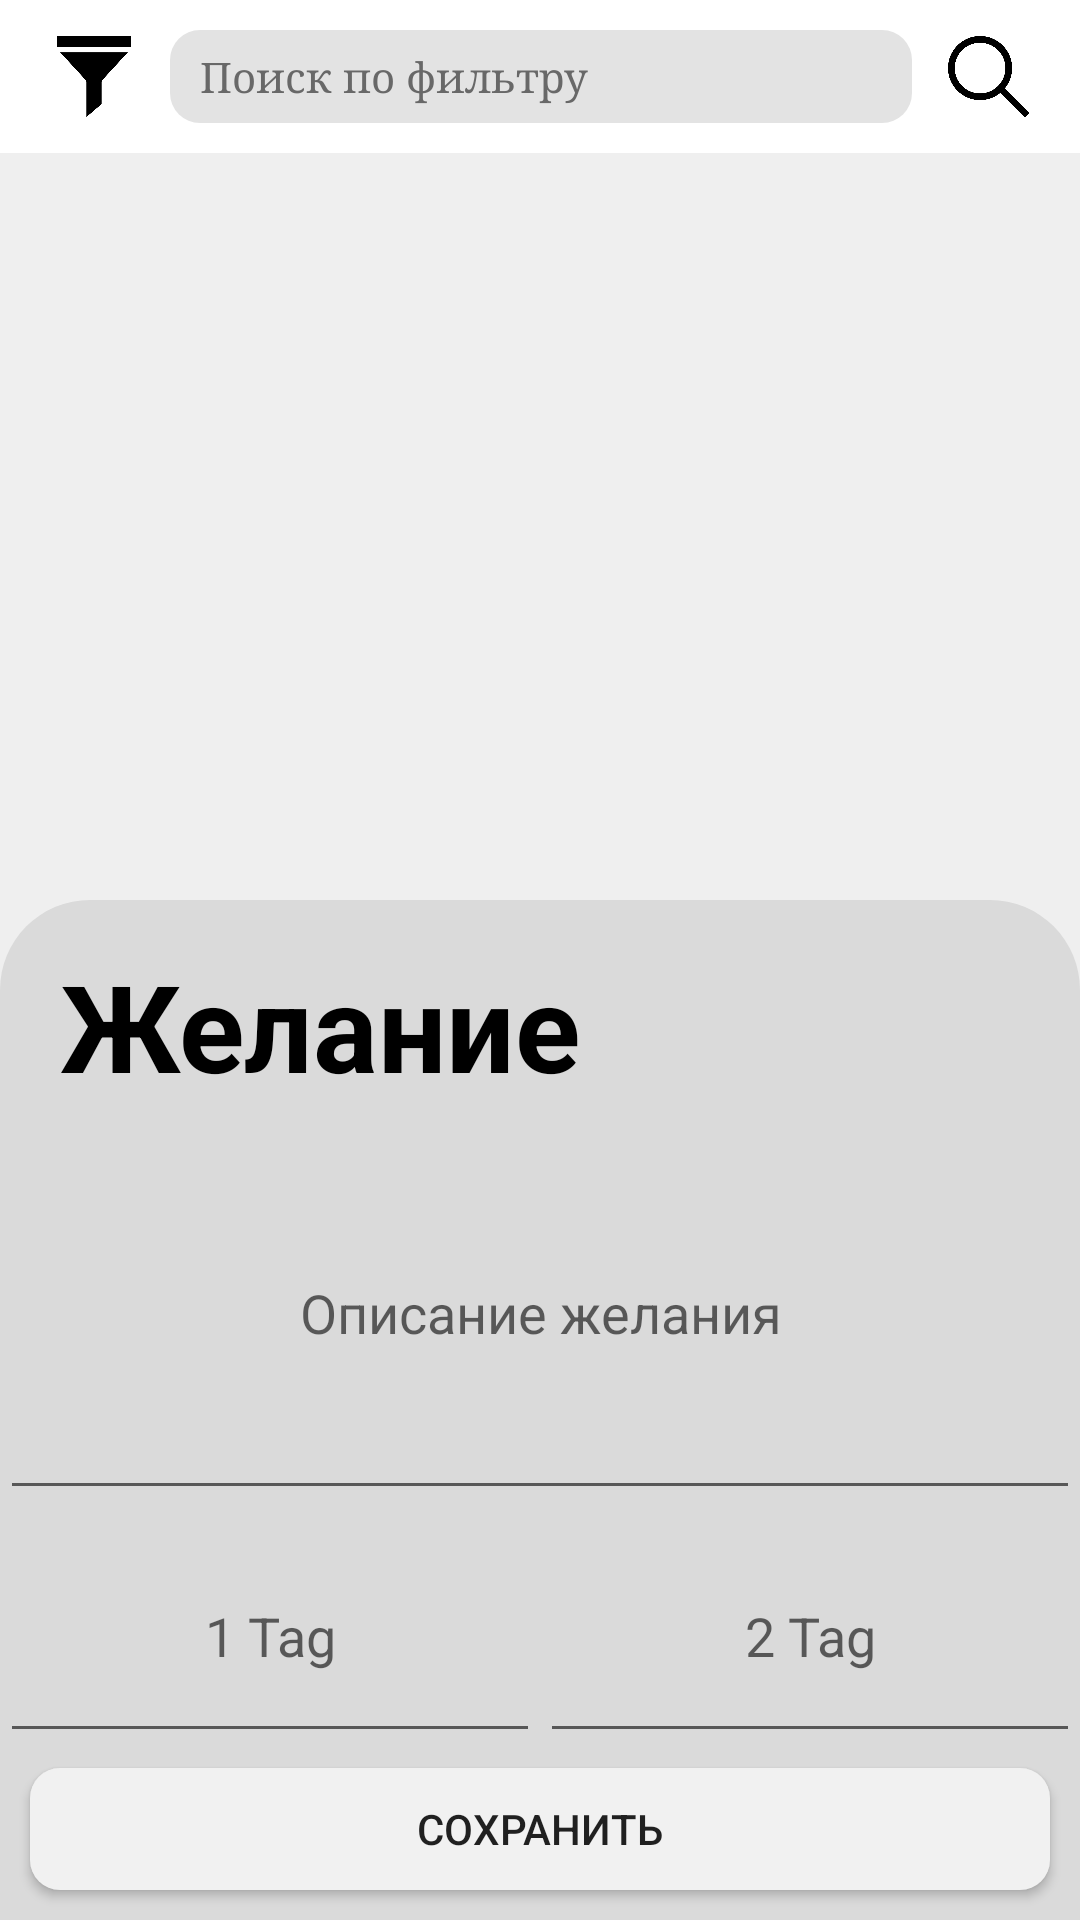

Icon click points for this 1080x1920 phone screenshot, format (x,y):
filter: (94,76)
search: (988,76)
